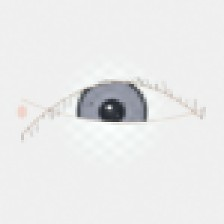pterygium_lesion: (138, 86, 204, 138)
